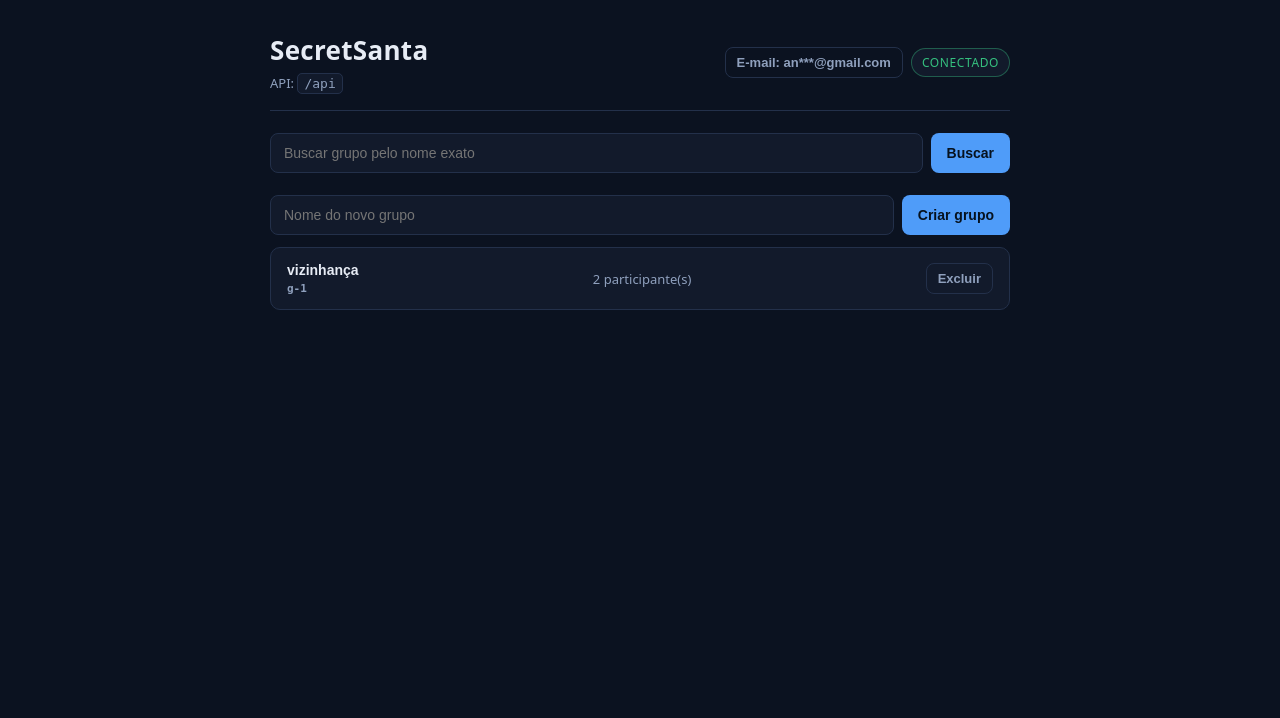
Scenario: sorteio › revelar tudo mostra todos os pares de uma vez
Click the text "vizinhança": (323, 270) 287,262 -> 359,278
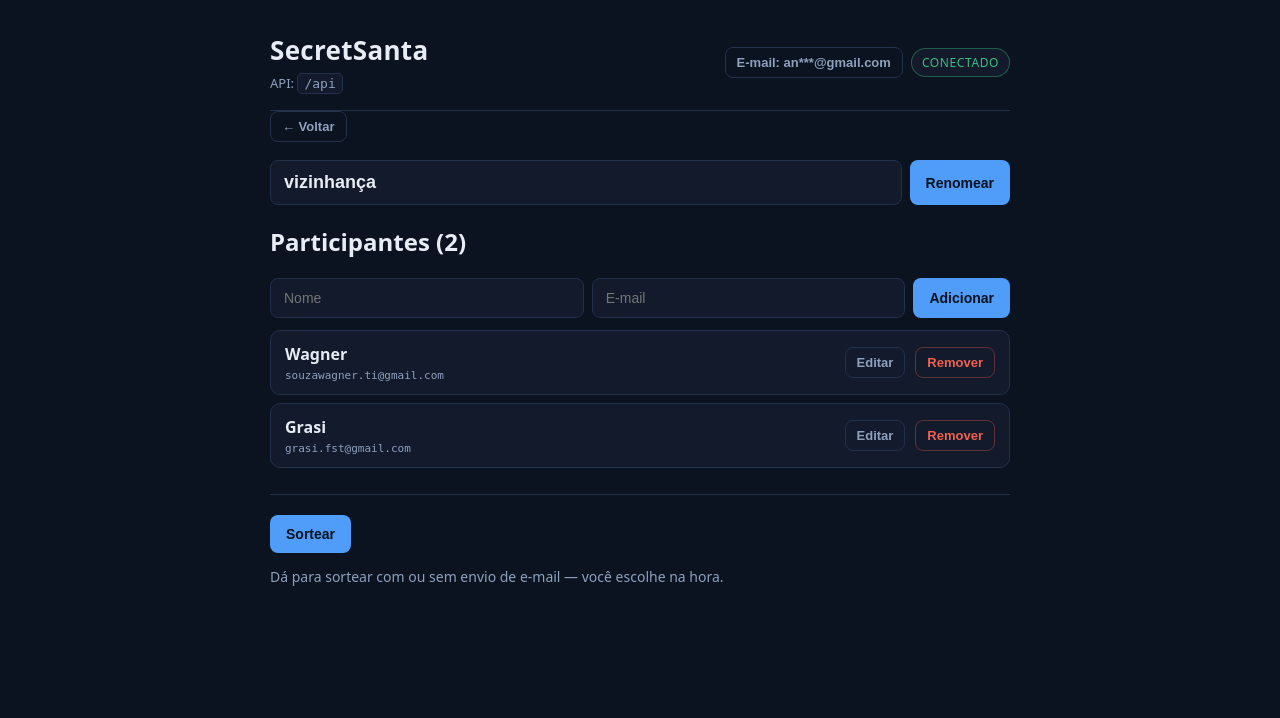
Check: the text "Wagner" is shown, box 285,343 -> 347,365
Click the button "Sortear": (310, 534) 270,515 -> 351,553
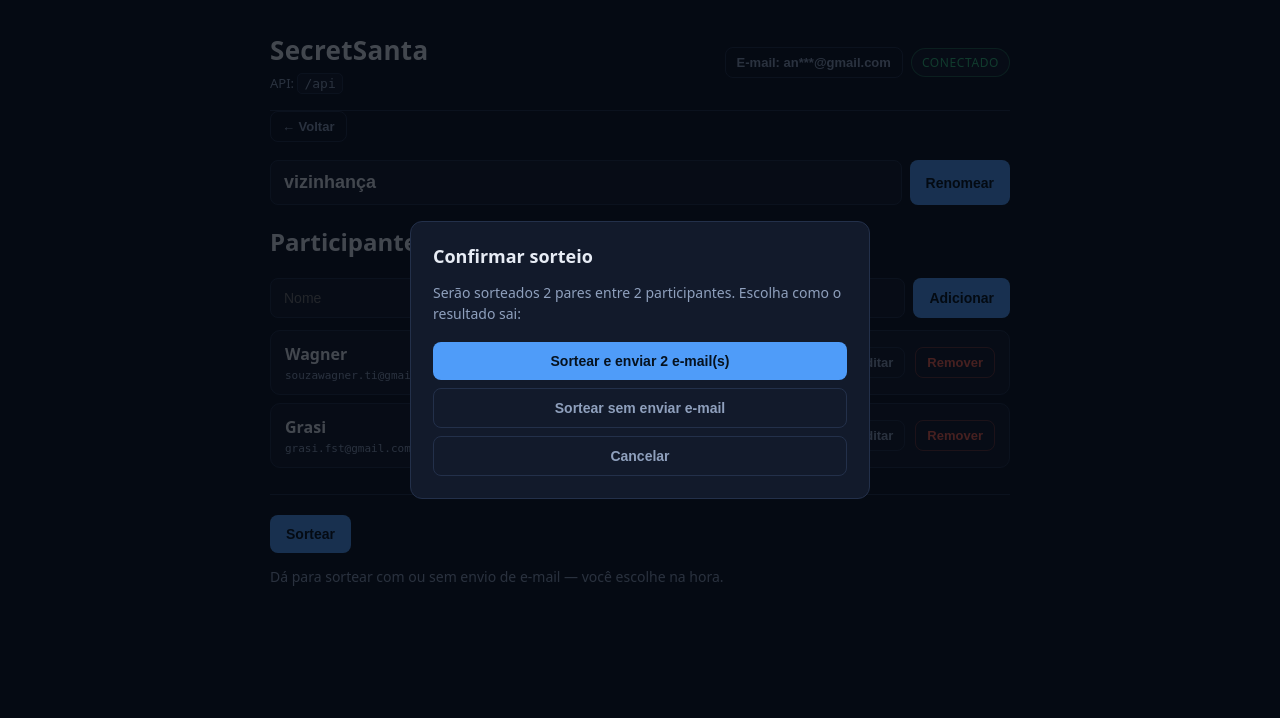
Check: the heading "Confirmar sorteio" is shown, box 433,244 -> 593,268
Click the button "Sortear e enviar 2 e-mail(s)": (640, 361) 433,342 -> 847,380
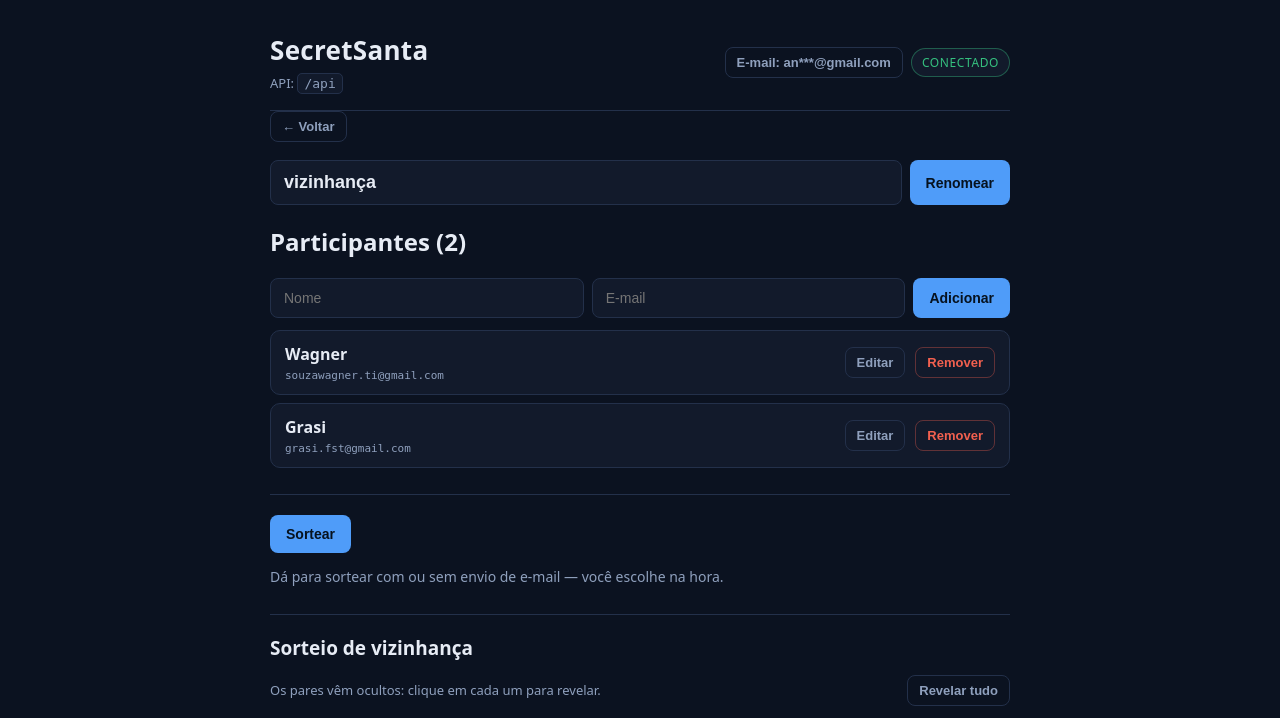
Check: the button "Revelar tudo" is shown
Click the button "Revelar tudo": (959, 690) 907,675 -> 1010,706
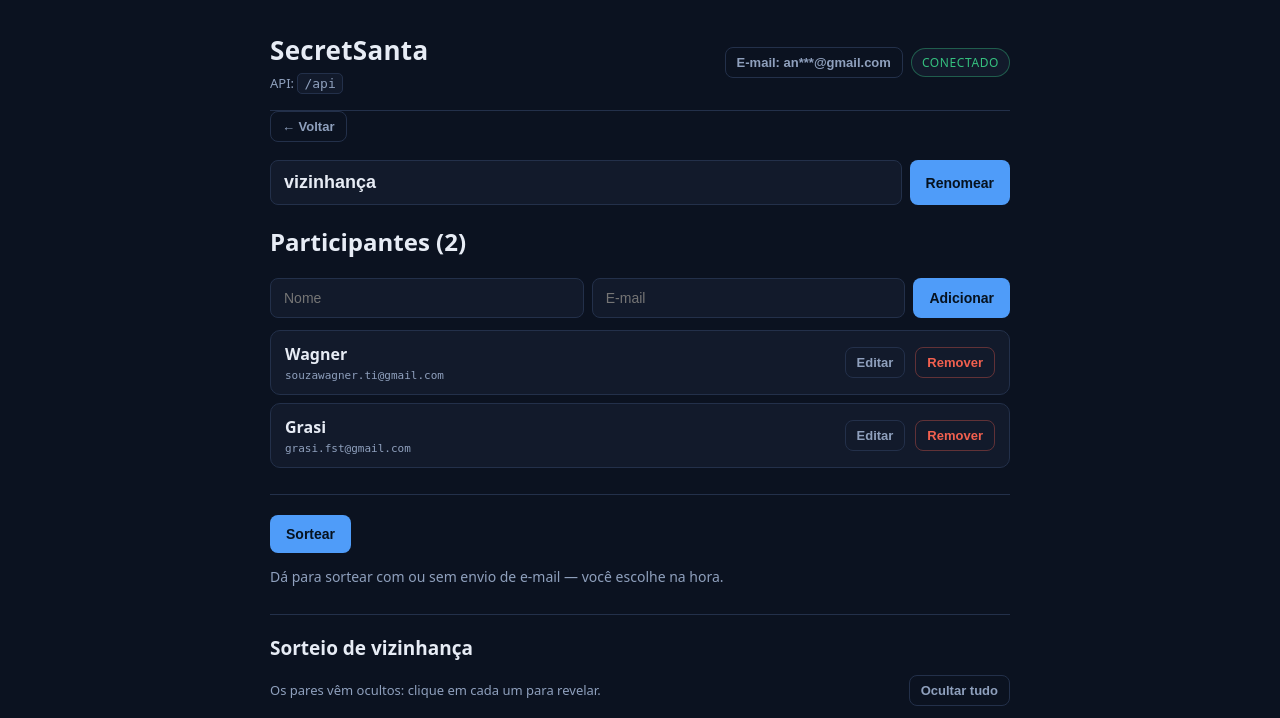
Check: no buttons "•••••" are shown
Check: the button "Ocultar tudo" is shown, box 909,675 -> 1010,706
